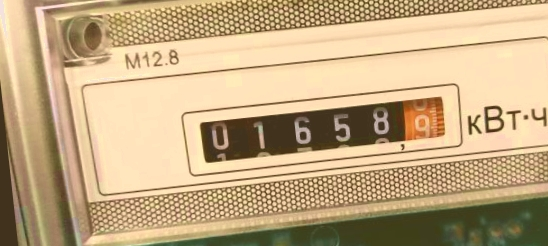0: (207, 118, 231, 152)
1: (251, 118, 267, 150)
5: (330, 110, 353, 144)
6: (291, 113, 314, 146)
8: (369, 104, 391, 137)
9: (410, 111, 431, 139)
screen: (172, 72, 470, 182)
